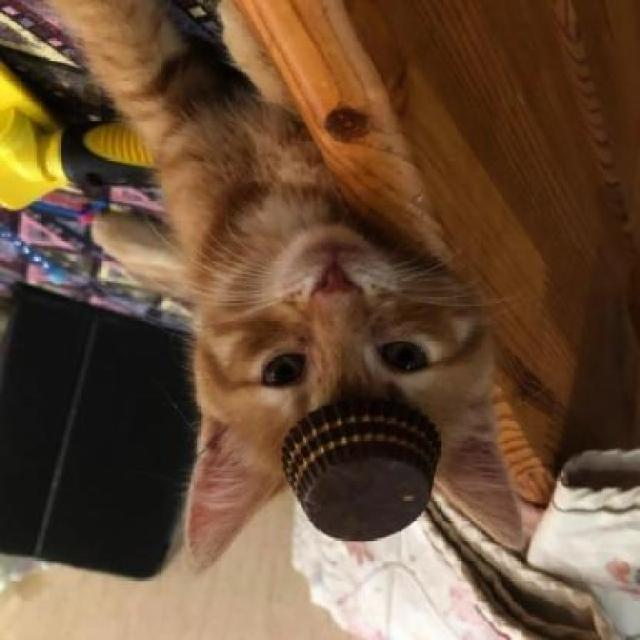cat: (167, 216, 527, 575)
